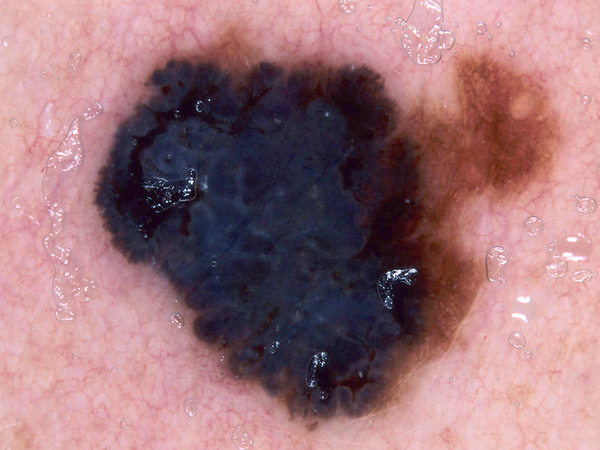Detected Lesion: (86, 27, 562, 427)
